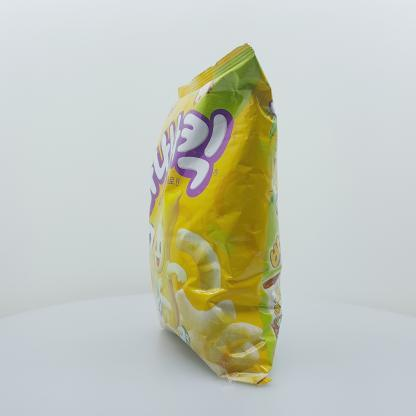Plastic Packaging: (140, 33, 308, 395)
